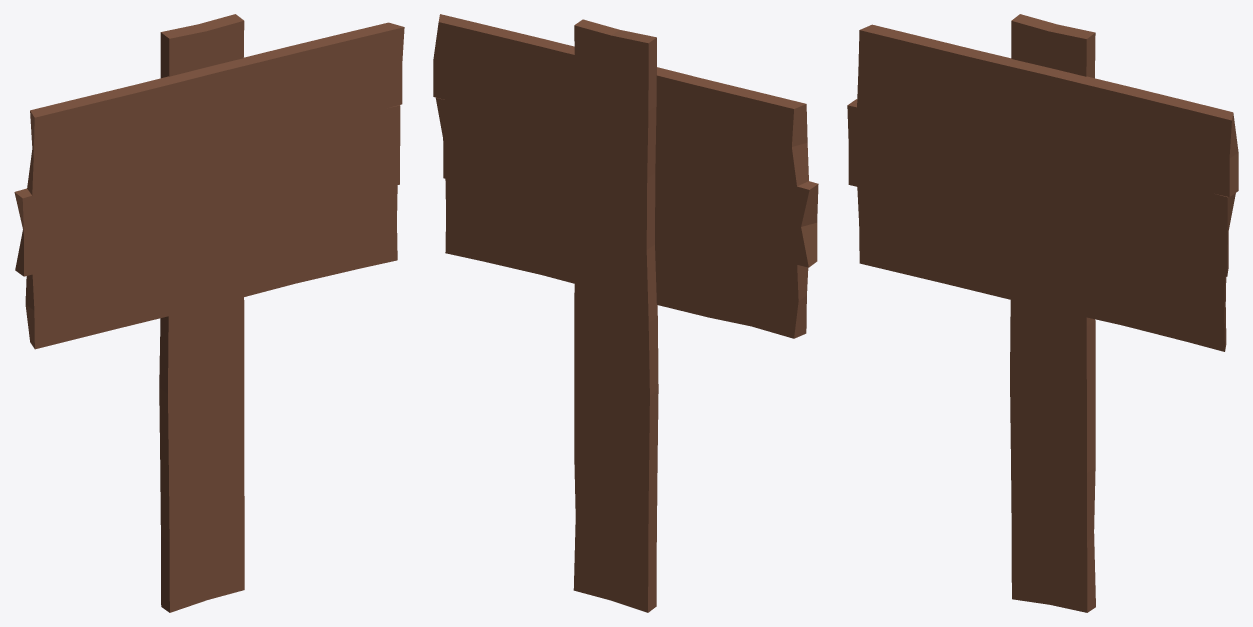
The model's file is sign.glb.
The picture shows the model from 3 angles, left to right: view 1: azimuth 30°, elevation 25°; view 2: azimuth 150°, elevation 25°; view 3: azimuth 330°, elevation 25°; orthographic projection.
Parts seen in each view (by area): view 1: Cube.002; view 2: Cube.002; view 3: Cube.002.
Boxes of the visible parts, bbox=[...] form: Cube.002: bbox=[14, 14, 404, 612]; Cube.002: bbox=[433, 14, 818, 612]; Cube.002: bbox=[847, 14, 1238, 612].
Size of the model in its own units: 1.04 by 1.49 by 0.0787.
